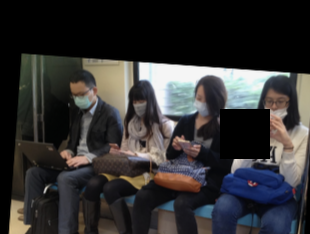mask_weared_incorrect: (263, 94, 288, 120)
with_mask: (68, 88, 96, 109), (193, 91, 211, 117), (131, 96, 149, 117)
